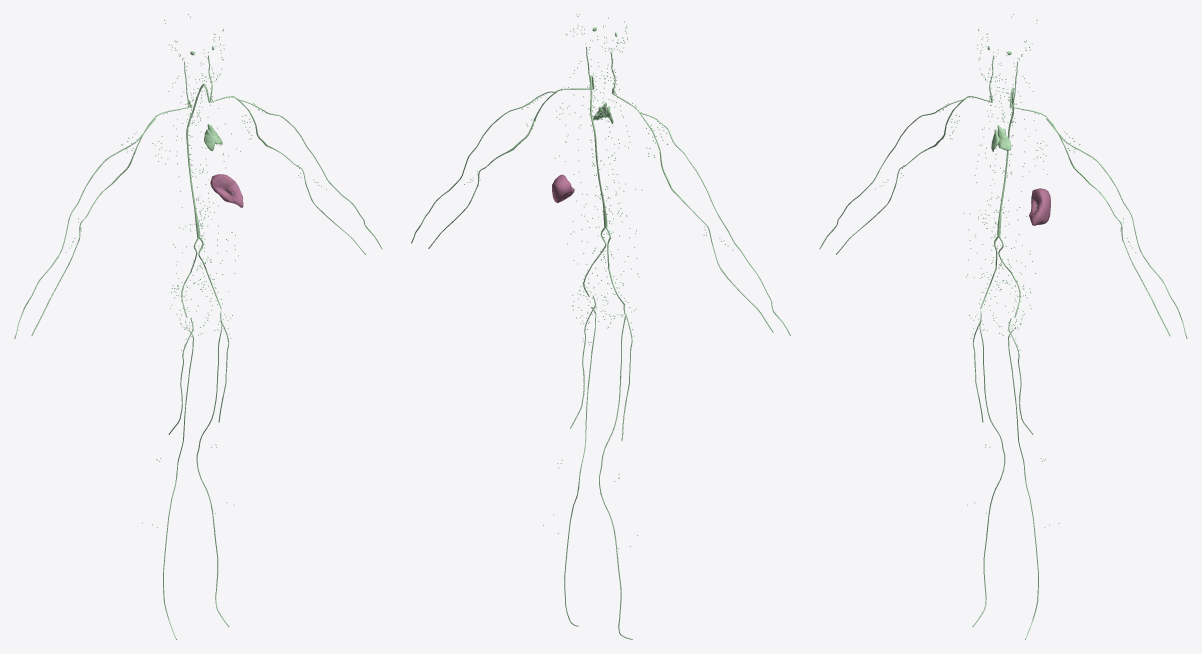
File: astronaut_lymphatic.glb
The picture shows the model from 3 angles, left to right: view 1: azimuth 30°, elevation 25°; view 2: azimuth 150°, elevation 25°; view 3: azimuth 330°, elevation 25°; orthographic projection. The views are drawn at different scales.
Parts seen in each view (by area): view 1: LYMPH_Vessels_UpperLimb_R, LYMPH_Vessels_LowerLimb_L, LYMPH_Vessels_LowerLimb_R, ORG_Spleen, LYMPH_Trunks, LYMPH_Vessels_UpperLimb_L; view 2: LYMPH_Vessels_UpperLimb_R, LYMPH_Vessels_LowerLimb_R, LYMPH_Vessels_LowerLimb_L, LYMPH_Trunks, LYMPH_Vessels_UpperLimb_L; view 3: LYMPH_Vessels_UpperLimb_L, LYMPH_Vessels_LowerLimb_L, LYMPH_Vessels_LowerLimb_R, ORG_Spleen, LYMPH_Trunks, LYMPH_Vessels_UpperLimb_R.
Boxes of the visible parts, x1,y1,x2,y2 form: LYMPH_Vessels_UpperLimb_R: (14, 118, 155, 338); LYMPH_Vessels_LowerLimb_L: (196, 311, 229, 626); LYMPH_Vessels_LowerLimb_R: (163, 318, 193, 639); ORG_Spleen: (210, 174, 243, 207); LYMPH_Trunks: (133, 55, 256, 317); LYMPH_Vessels_UpperLimb_L: (236, 98, 382, 254); LYMPH_Vessels_UpperLimb_R: (640, 112, 790, 335); LYMPH_Vessels_LowerLimb_R: (599, 303, 632, 639); LYMPH_Vessels_LowerLimb_L: (564, 295, 596, 626); LYMPH_Trunks: (533, 46, 660, 305); LYMPH_Vessels_UpperLimb_L: (411, 91, 556, 248); LYMPH_Vessels_UpperLimb_L: (1046, 118, 1187, 338); LYMPH_Vessels_LowerLimb_L: (1008, 318, 1038, 639); LYMPH_Vessels_LowerLimb_R: (972, 311, 1005, 626); ORG_Spleen: (1029, 188, 1050, 225); LYMPH_Trunks: (945, 55, 1068, 317); LYMPH_Vessels_UpperLimb_R: (819, 98, 965, 254).
Size of the model in its own units: 1.01 by 1.57 by 0.2011.
